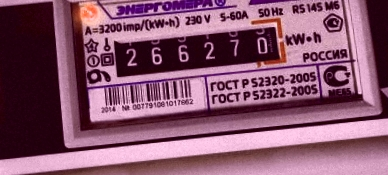0: (254, 33, 268, 55)
2: (122, 45, 138, 67), (201, 38, 215, 60)
6: (148, 44, 163, 65), (174, 42, 189, 62)
7: (226, 36, 241, 58)
screen: (102, 12, 293, 86)
